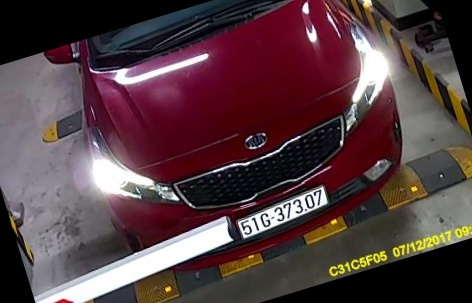plate: (223, 193, 335, 242)
